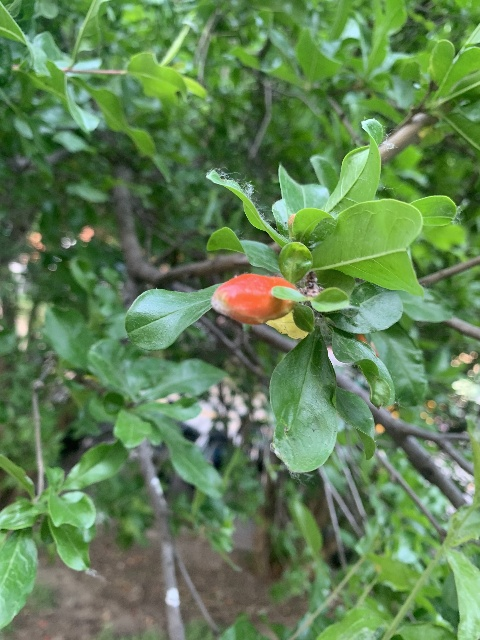bud: (210, 273, 297, 324)
